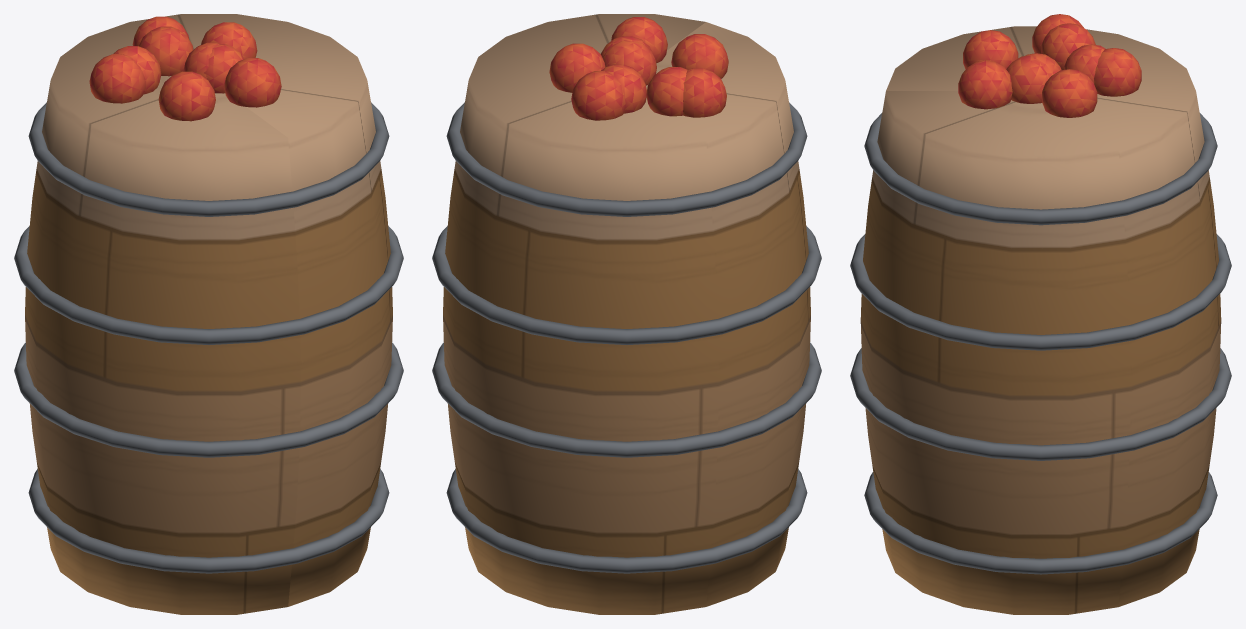
Rendered from prop_barrel_apples.glb.
The picture shows the model from 3 angles, left to right: view 1: azimuth 30°, elevation 25°; view 2: azimuth 150°, elevation 25°; view 3: azimuth 270°, elevation 25°; orthographic projection. The views are drawn at different scales.
Visible parts, largest first — view 1: prop_barrel_wood, prop_barrel; view 2: prop_barrel_wood, prop_barrel; view 3: prop_barrel_wood, prop_barrel.
Part boxes in pixels (x1=…): prop_barrel_wood: x1=25, y1=14, x2=392, y2=614; prop_barrel: x1=14, y1=16, x2=403, y2=573; prop_barrel_wood: x1=443, y1=14, x2=810, y2=614; prop_barrel: x1=432, y1=17, x2=821, y2=573; prop_barrel_wood: x1=860, y1=26, x2=1221, y2=614; prop_barrel: x1=850, y1=14, x2=1231, y2=574.
Size of the model in its own units: 0.6777 by 0.969 by 0.6777.
Materials: 3 (1 with a texture image).
